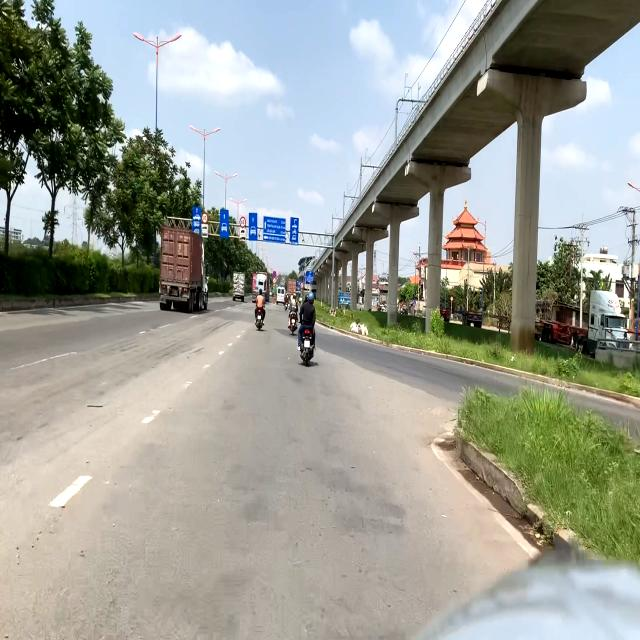P.127: (239, 216, 246, 228), (202, 213, 208, 224)
